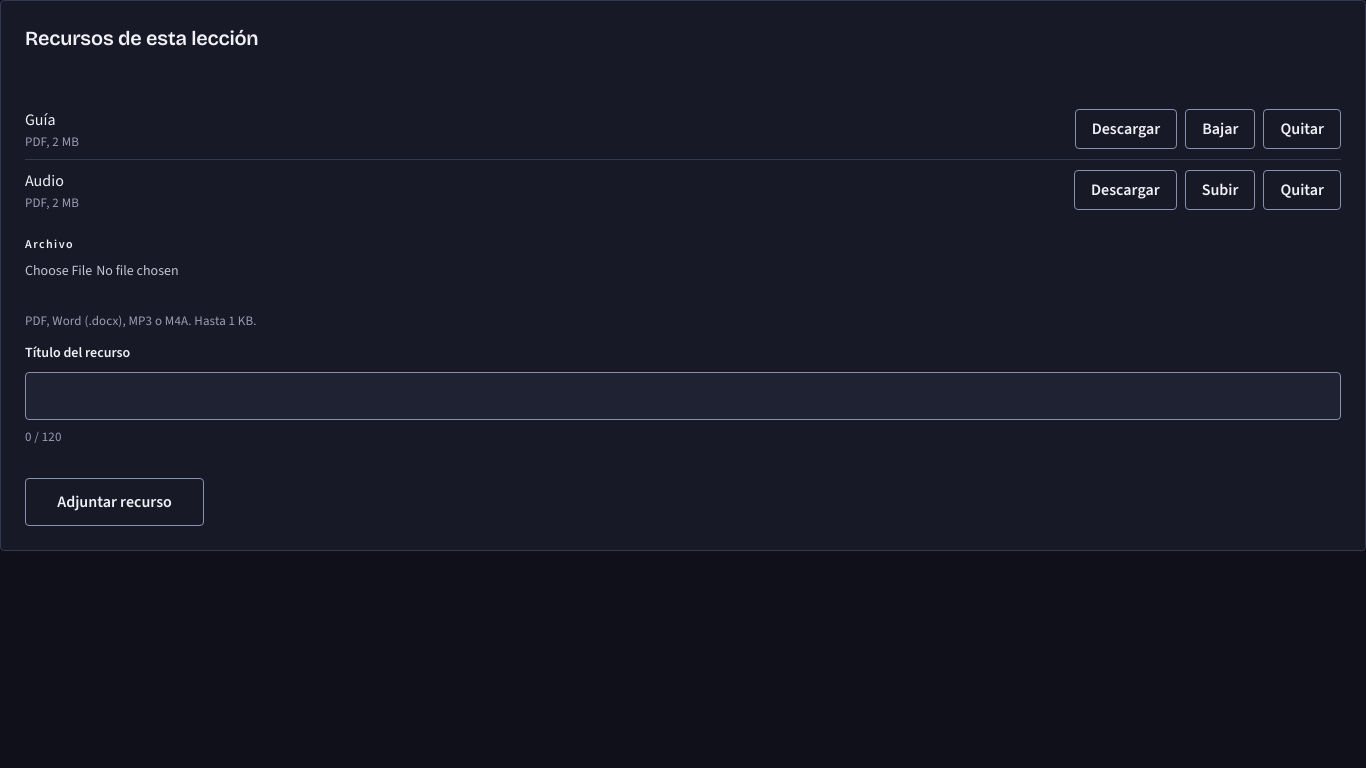
Scenario: la lista › quitar pregunta antes, y la confirmación lleva lo que se vio
The width and height of the screenshot is (1366, 768).
Click the button named "Quitar Guía" at (1302, 129), box top-left (1264, 109), bottom-right (1341, 149)
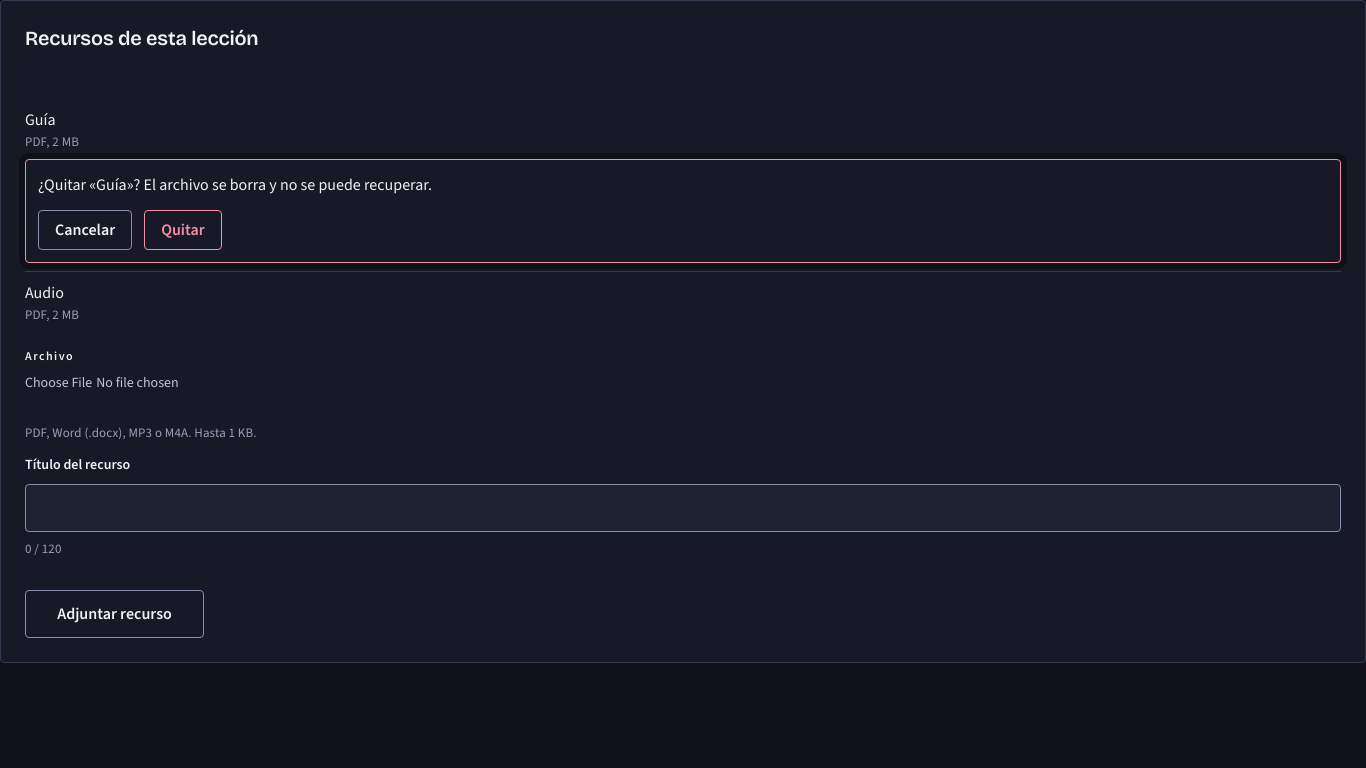
Expected: the button "Subir Audio" is not shown
Result: the number of buttons "Quitar" is 1 at top-left (144, 210), bottom-right (222, 250)
Result: the button "Cancelar" is shown at top-left (38, 210), bottom-right (132, 250)
